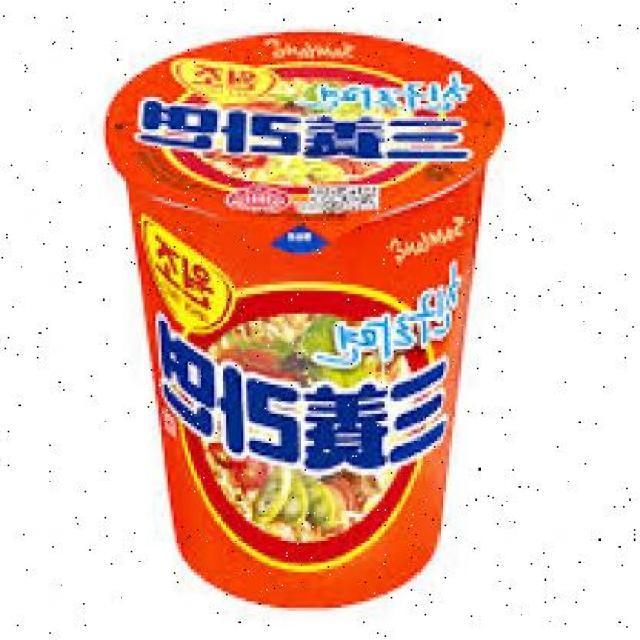Miscellaneous: (121, 23, 512, 600)
